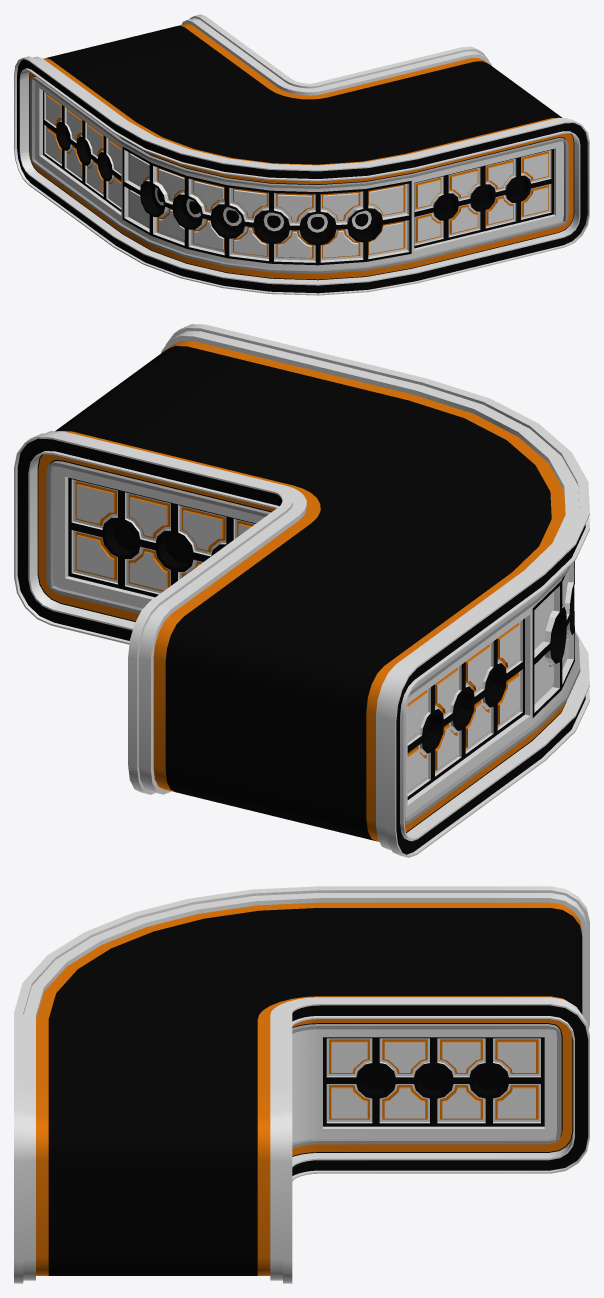
Rendered from ConveyotBeltL.fbx.
3 views of the same model, one above another, from view 1: azimuth 30°, elevation 25°; view 2: azimuth 150°, elevation 25°; view 3: azimuth 270°, elevation 25° (orthographic). The views are drawn at different scales.
Parts seen in each view (by area): view 1: ConveyotBeltL; view 2: ConveyotBeltL; view 3: ConveyotBeltL.
Part boxes in pixels (box(x1,y1,x2,y2)): ConveyotBeltL: box(14, 14, 589, 295); ConveyotBeltL: box(14, 324, 589, 857); ConveyotBeltL: box(14, 886, 589, 1283).
Size of the model in its own units: 114 by 37.37 by 115.
